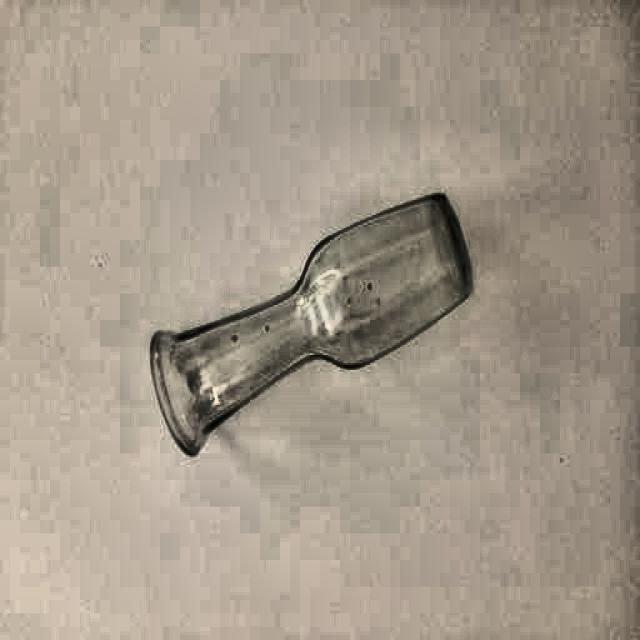glass: (144, 191, 477, 454)
